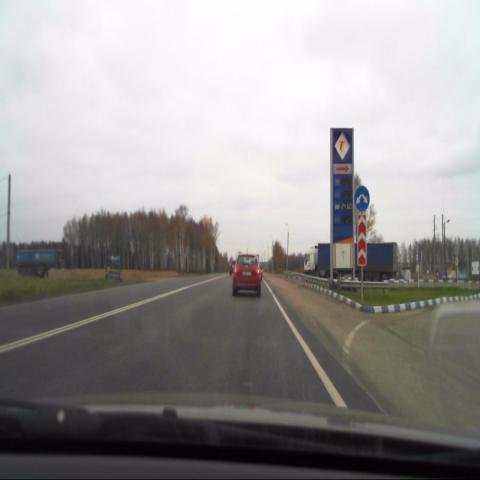4_2_3: (354, 184, 370, 214)
